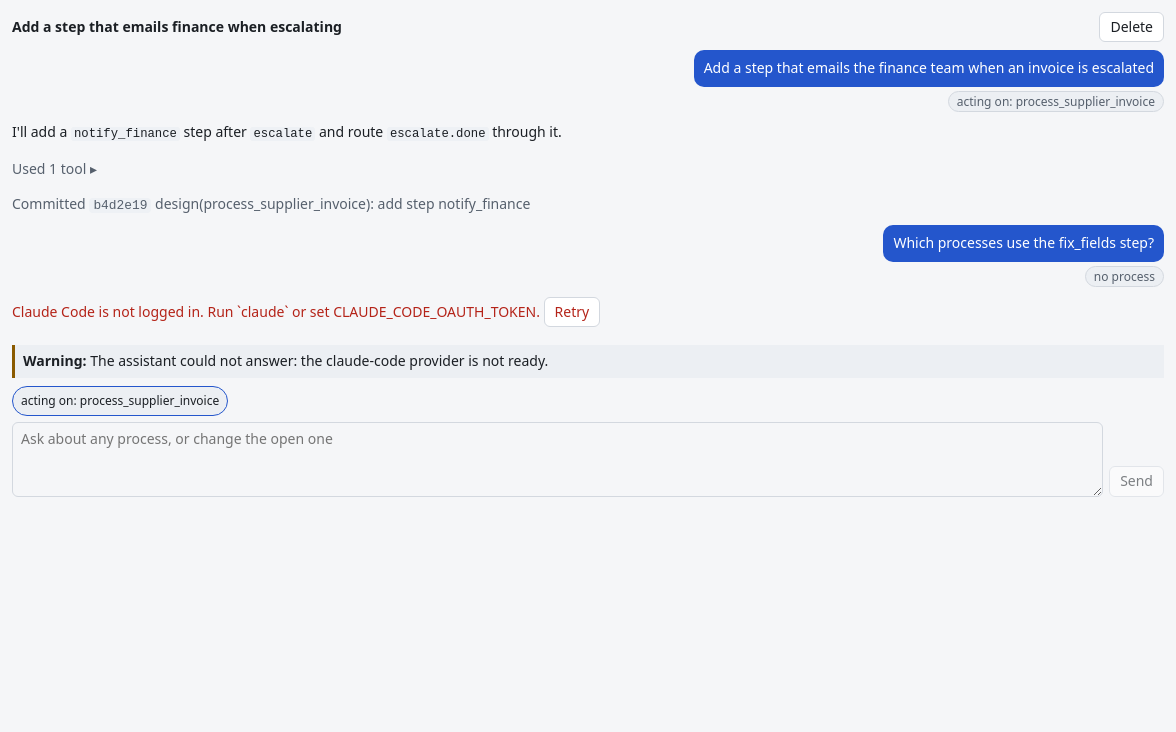
Test: ChatView snapshot › a group of read tools starts collapsed and expands on click
The width and height of the screenshot is (1176, 732).
Expected: the text "Add a step that emails the finance team when an invoice is escalated" is shown, [694, 50, 1164, 87]
Expected: the text "read_design" is not shown
Click the button "Used 1 tool ▸". click: (54, 169)
box: [12, 154, 97, 184]
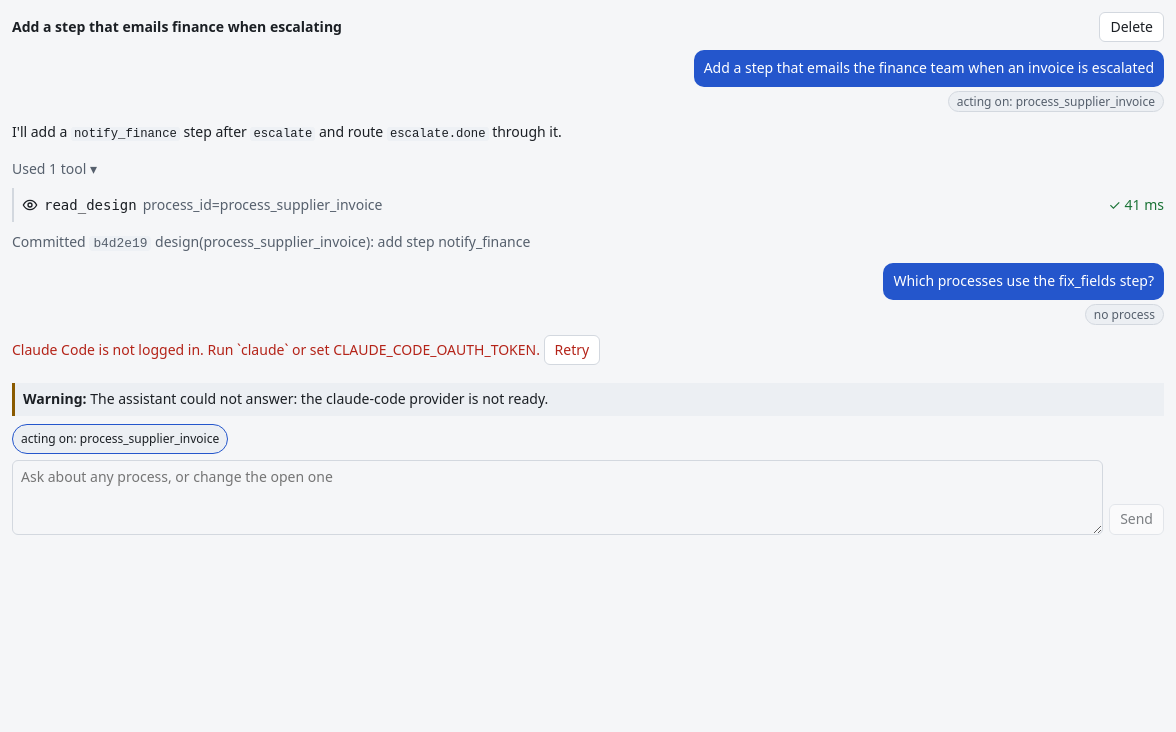
Click the button "read_design process_id=process_supplier_invoice". click: (90, 205)
box: [22, 190, 1102, 220]
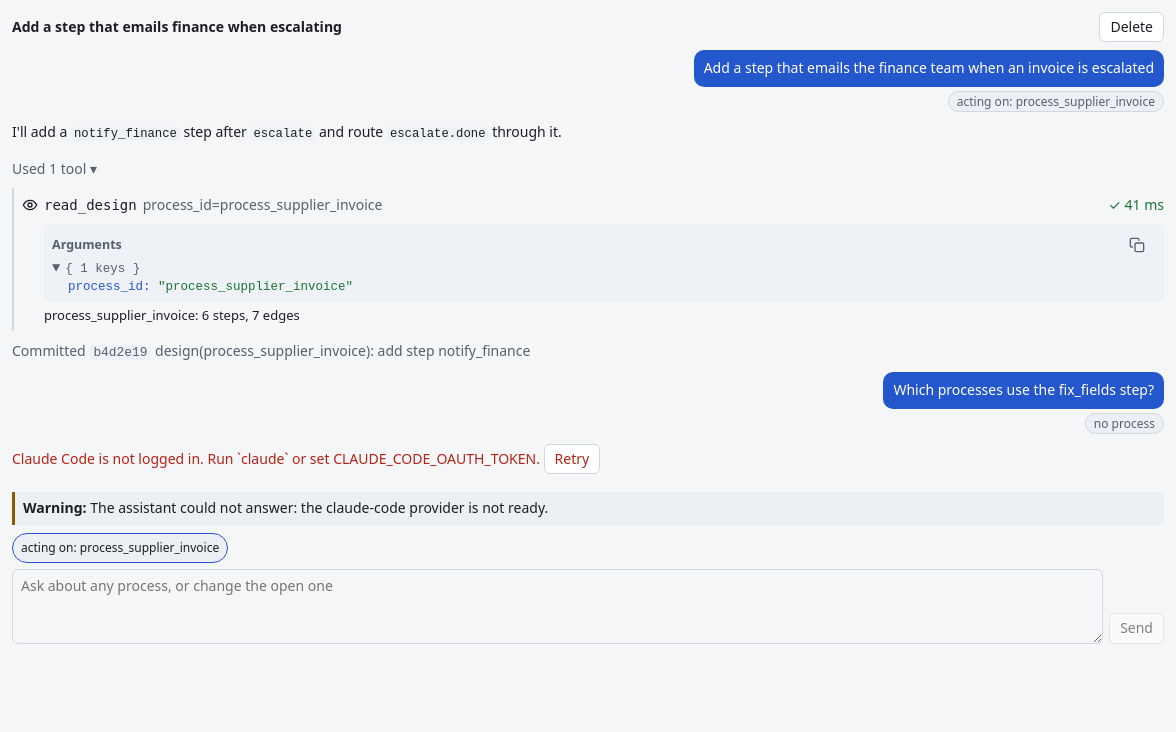
Now the text "process_supplier_invoice: 6 steps, 7 edges" is shown, box [44, 306, 300, 324]
